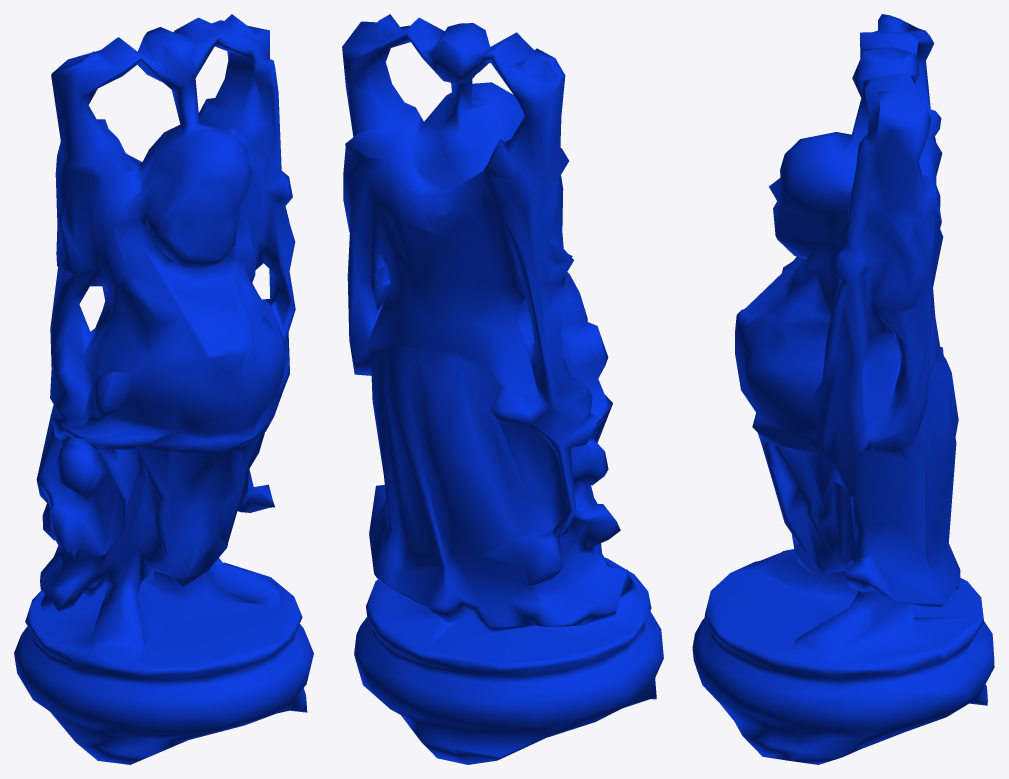
The model's file is buddha.obj.
3 views of the same model, side by side, from view 1: azimuth 30°, elevation 25°; view 2: azimuth 150°, elevation 25°; view 3: azimuth 270°, elevation 25° (orthographic). The views are drawn at different scales.
Parts seen in each view (by area): view 1: buddha; view 2: buddha; view 3: buddha.
Part boxes in pixels (x1,y1,x2,y2): buddha: (14,14,313,764); buddha: (342,14,663,764); buddha: (692,14,994,764).
Size of the model in its own units: 62.44 by 151 by 61.97.
1 material, 1 textured.
